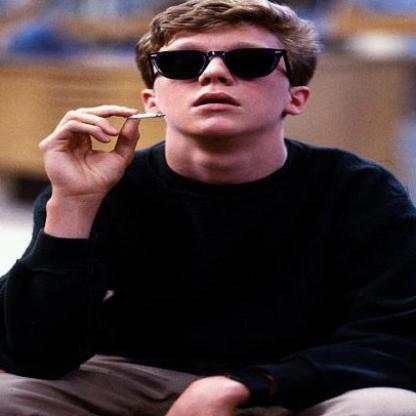cigarette: (124, 112, 166, 122)
person: (28, 0, 416, 415)
